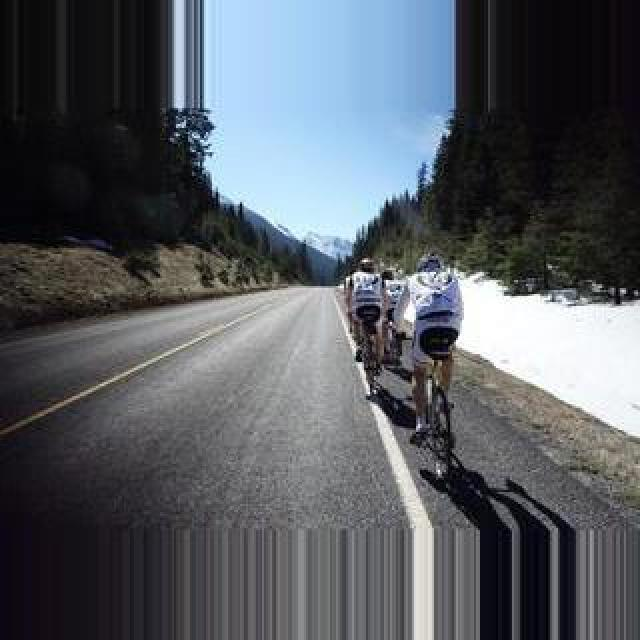MC-Bike: (392, 260, 464, 448), (348, 256, 392, 386)
Person: (411, 352, 457, 478), (352, 310, 388, 396)
